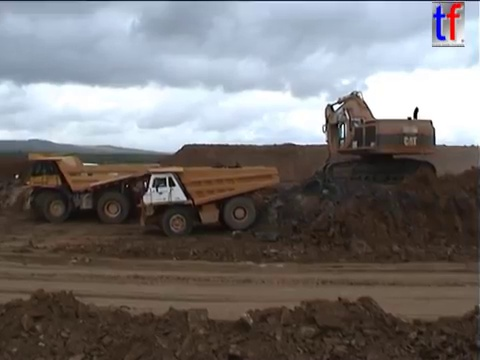excavator: (313, 88, 439, 187)
truck: (135, 164, 282, 238), (14, 151, 162, 224)
